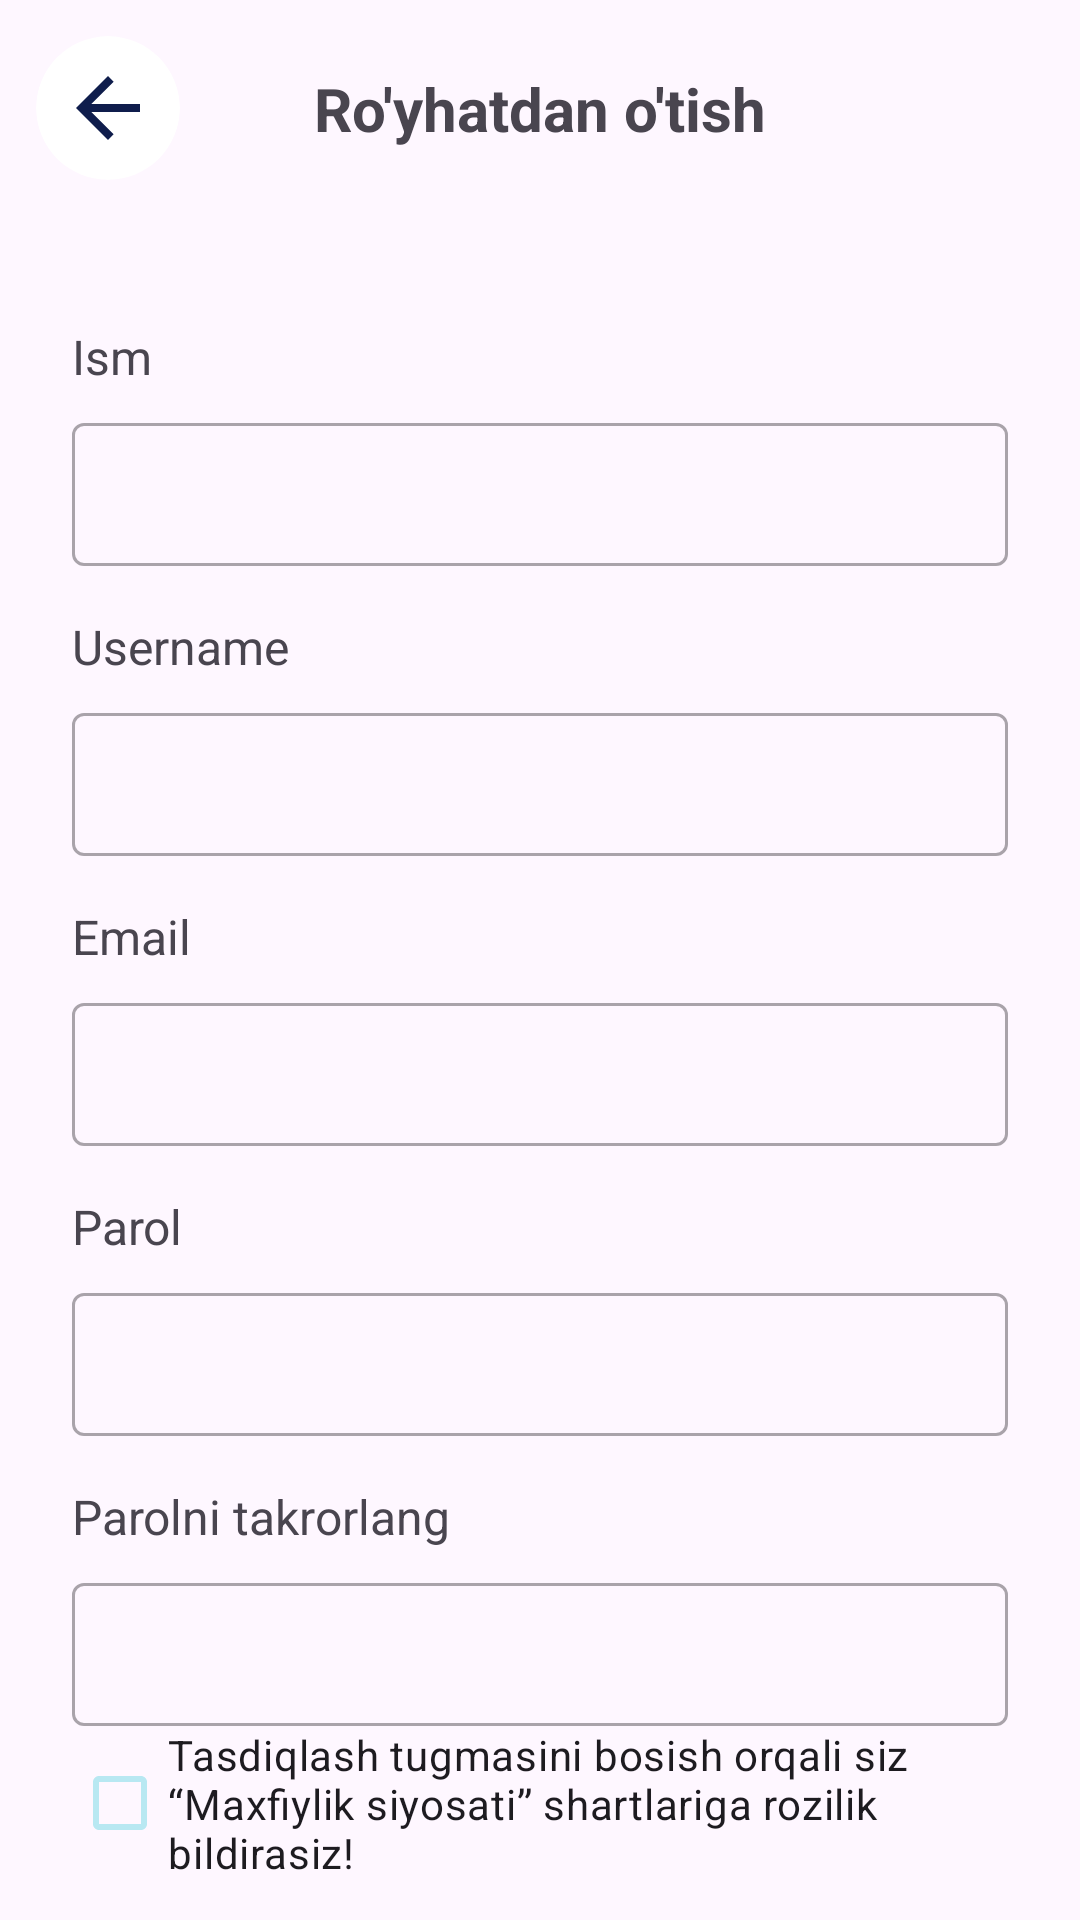

Named icons in this screenshot (1080 x 1920) and their bounding boxes, (x1, y1, x2, y2):
login back button: (76, 76, 140, 140)
